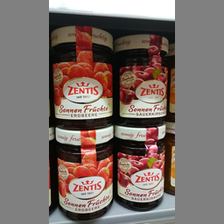jam: (50, 25, 116, 131), (55, 127, 115, 221), (114, 34, 171, 126), (114, 125, 167, 212)
